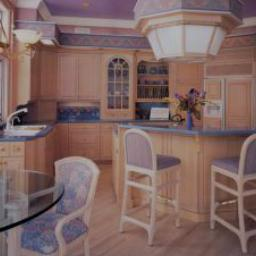Electrodomestico: (6, 107, 49, 138)
